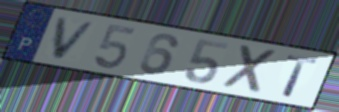5: (183, 37, 232, 85), (92, 22, 139, 70)
6: (138, 33, 181, 77)
T: (280, 53, 321, 100)
V: (50, 16, 100, 62)
X: (220, 42, 282, 96)
